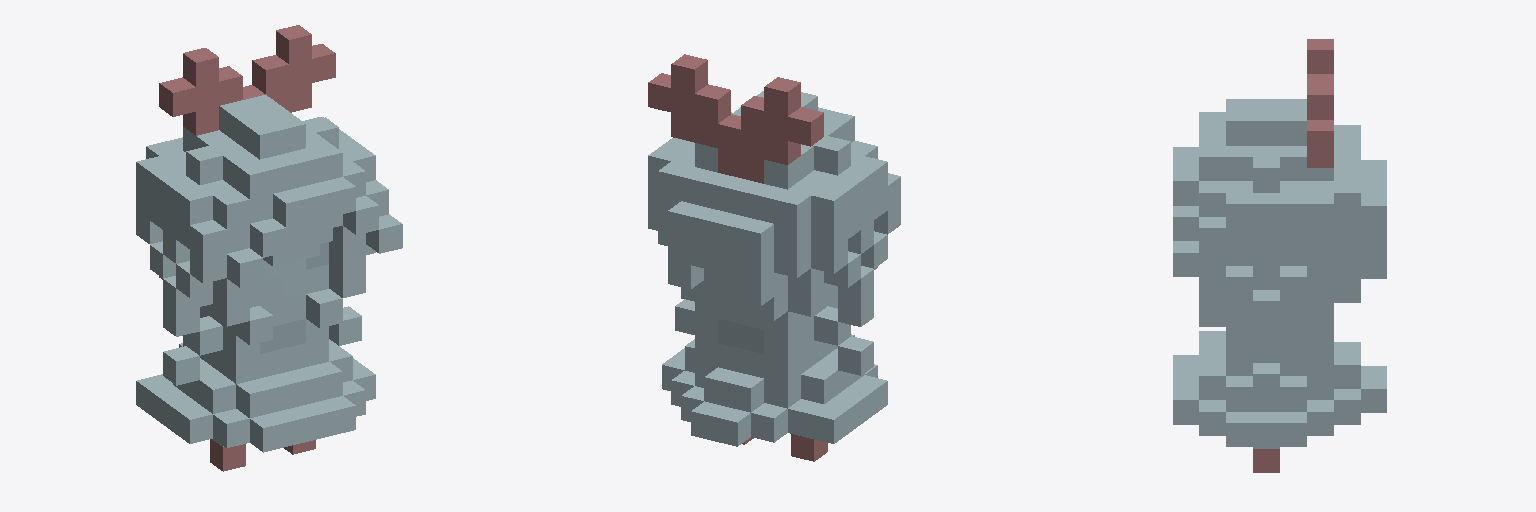
The picture shows the model from 3 angles: view 1: azimuth 30°, elevation 25°; view 2: azimuth 150°, elevation 25°; view 3: azimuth 270°, elevation 25°; orthographic projection.
Parts seen in each view (by area): view 1: girl1-2; view 2: girl1-2; view 3: girl1-2.
Boxes of the visible parts, x1,y1,x2,y2 form: girl1-2: [136, 25, 402, 471]; girl1-2: [648, 54, 900, 461]; girl1-2: [1173, 39, 1386, 472].
Bounding box in the file's own units: 8 × 16 × 8.
Materials: 1 (1 with a texture image).